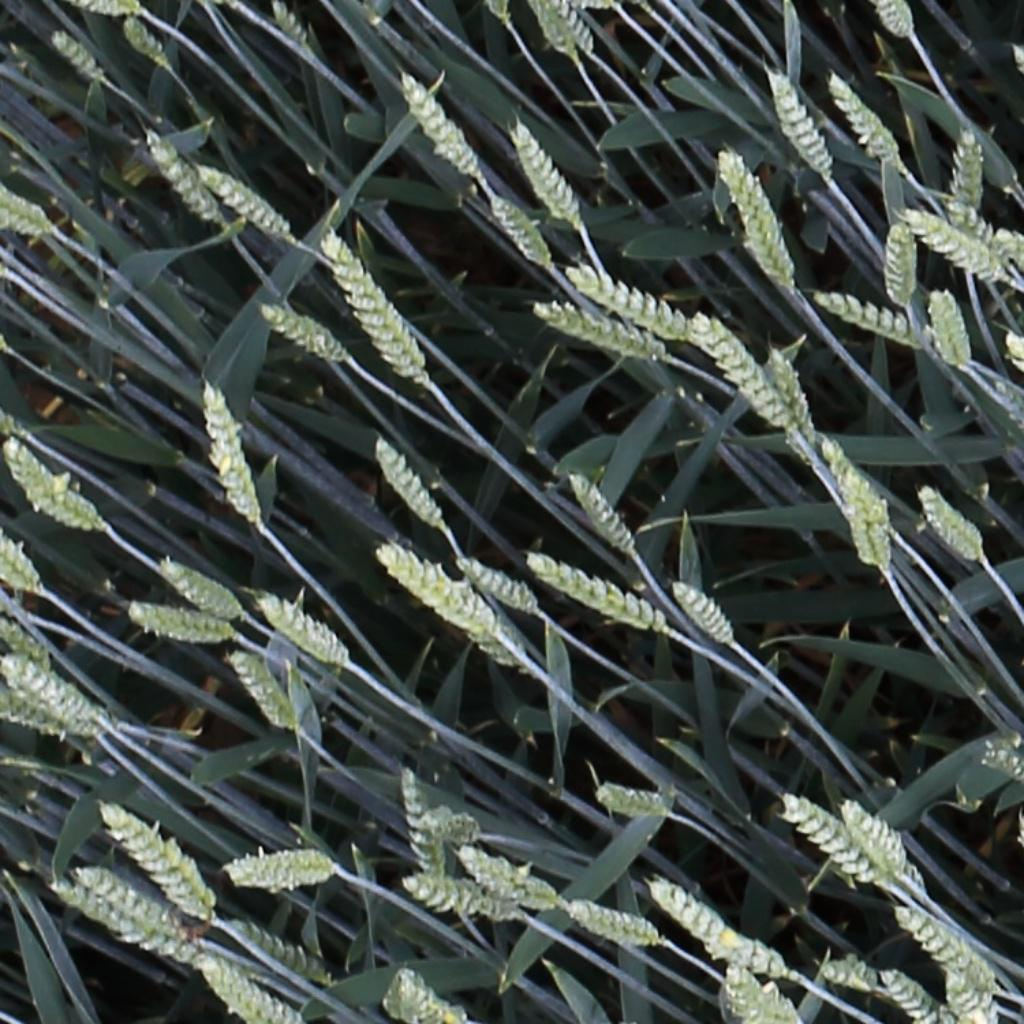0-0: (319, 230, 425, 383), (645, 877, 783, 983), (96, 804, 219, 920), (49, 880, 200, 966), (686, 309, 793, 428), (712, 143, 797, 292), (522, 554, 664, 634), (374, 547, 492, 633), (198, 378, 264, 524), (532, 301, 665, 373), (390, 69, 477, 177), (565, 264, 692, 337), (502, 116, 584, 229), (0, 652, 106, 738), (72, 869, 193, 944), (892, 903, 995, 991), (4, 441, 101, 533), (780, 798, 880, 886), (763, 68, 836, 181), (821, 69, 903, 165), (815, 431, 892, 533), (365, 432, 443, 532), (141, 128, 221, 225), (195, 953, 300, 1024), (562, 466, 637, 559), (196, 162, 288, 236), (222, 648, 299, 735), (255, 596, 348, 668), (454, 849, 558, 911), (809, 289, 922, 345), (913, 483, 987, 565), (906, 210, 996, 277), (761, 341, 817, 447), (394, 767, 443, 887), (461, 600, 538, 676), (232, 922, 324, 985), (154, 558, 246, 620), (483, 187, 552, 267), (401, 879, 526, 922), (121, 604, 234, 650), (381, 968, 474, 1023), (836, 800, 906, 873), (0, 688, 96, 741), (255, 303, 342, 361), (219, 849, 335, 892), (668, 577, 737, 649), (724, 963, 805, 1024), (454, 558, 536, 614), (562, 901, 660, 946), (927, 282, 974, 374), (842, 495, 890, 576), (937, 210, 1002, 267), (881, 215, 915, 312), (949, 121, 981, 222), (879, 969, 940, 1021), (46, 28, 103, 83), (546, 0, 598, 60), (0, 527, 44, 597), (117, 12, 170, 70), (592, 781, 670, 819), (0, 183, 53, 236), (943, 968, 995, 1021), (535, 1, 581, 58), (263, 0, 309, 51), (0, 625, 49, 672), (816, 962, 880, 992), (980, 739, 1024, 780), (876, 0, 916, 43), (1007, 39, 1024, 109), (76, 0, 141, 16)
